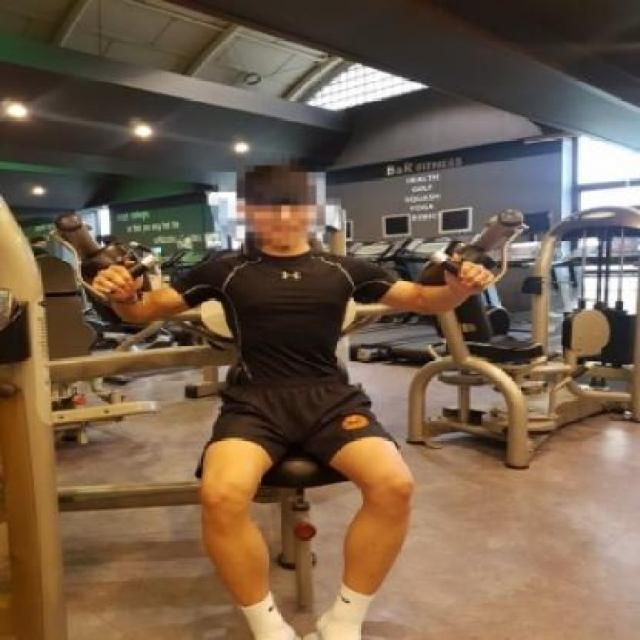lateral raises machine: (48, 206, 528, 640)
